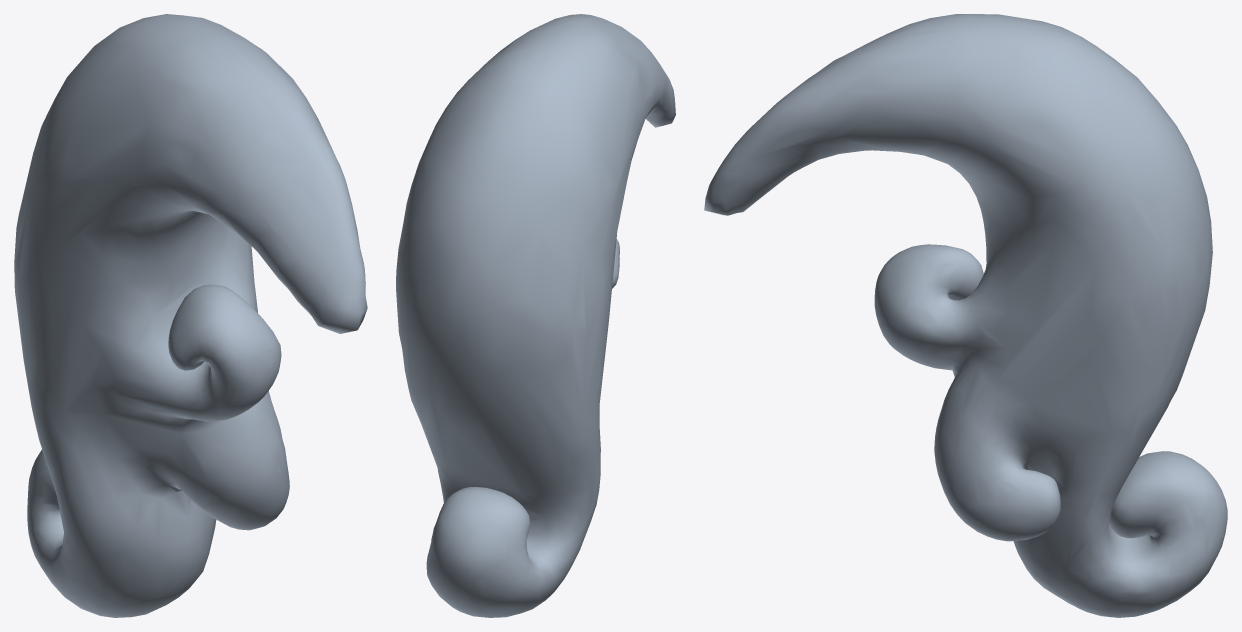
The model's file is Tail_08.fbx.
The picture shows the model from 3 angles, left to right: view 1: azimuth 30°, elevation 25°; view 2: azimuth 150°, elevation 25°; view 3: azimuth 270°, elevation 25°; orthographic projection. The views are drawn at different scales.
Visible parts, largest first — view 1: Tail_08; view 2: Tail_08; view 3: Tail_08.
Part boxes in pixels (x1,y1,x2,y2): Tail_08: (14, 14, 367, 617); Tail_08: (396, 14, 675, 617); Tail_08: (704, 14, 1227, 617).
Size of the model in its own units: 103 by 286 by 229.
